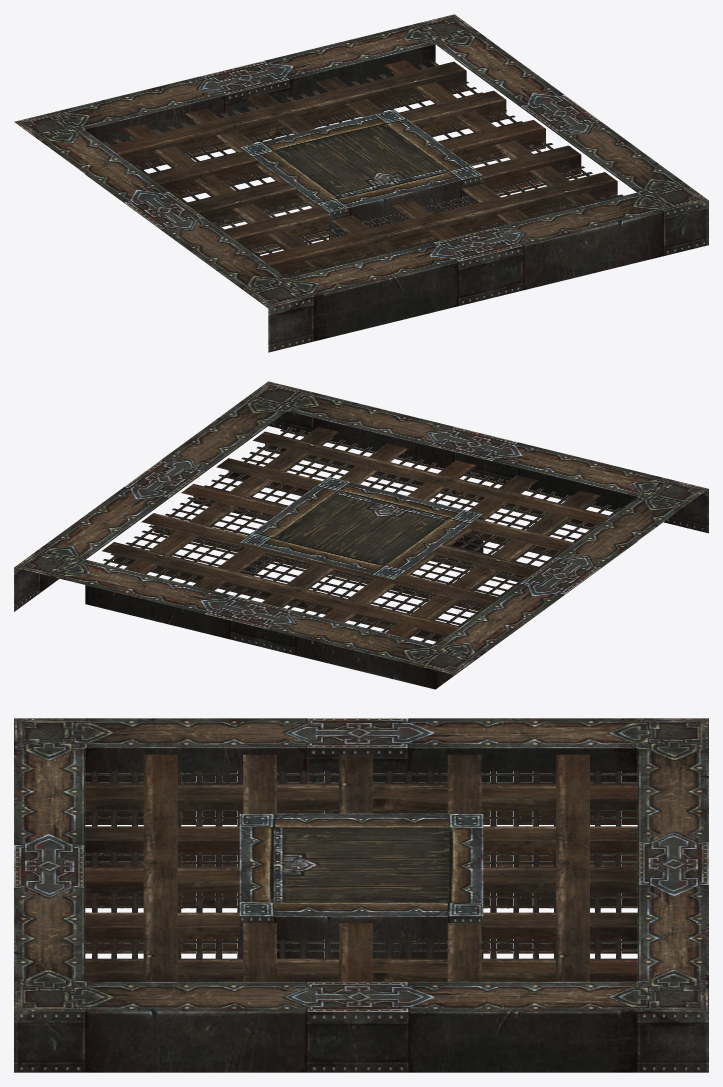
Rendered from fb_jianyu_dilao01.FBX.
3 views of the same model, one above another, from view 1: azimuth 30°, elevation 25°; view 2: azimuth 150°, elevation 25°; view 3: azimuth 270°, elevation 25° (orthographic). The views are drawn at different scales.
Parts seen in each view (by area): view 1: fb_jianyu_dilao01; view 2: fb_jianyu_dilao01; view 3: fb_jianyu_dilao01.
Part boxes in pixels (bbox=[...]): fb_jianyu_dilao01: bbox=[14, 14, 708, 352]; fb_jianyu_dilao01: bbox=[14, 381, 708, 689]; fb_jianyu_dilao01: bbox=[14, 718, 708, 1072].
Size of the model in its own units: 614 by 59.39 by 614.
